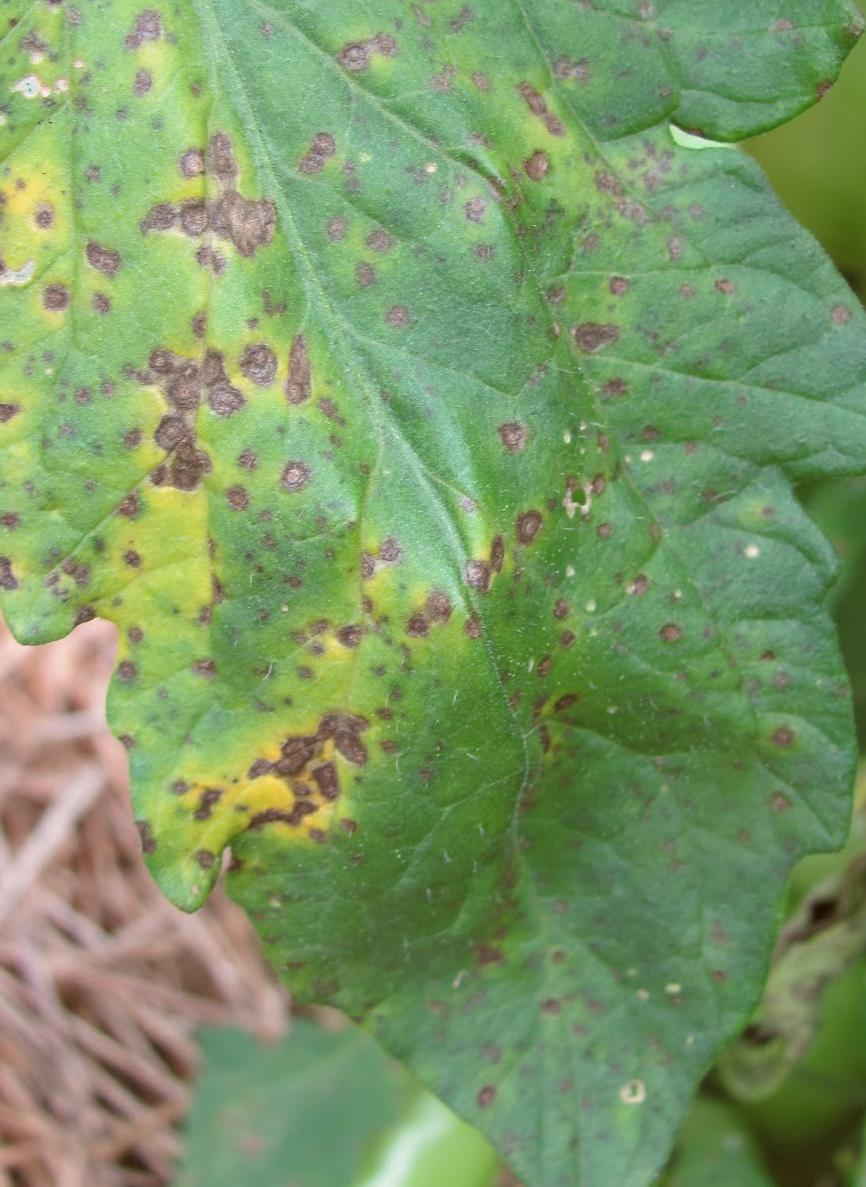Tomato Septoria leaf spot: (23, 0, 858, 1187)
